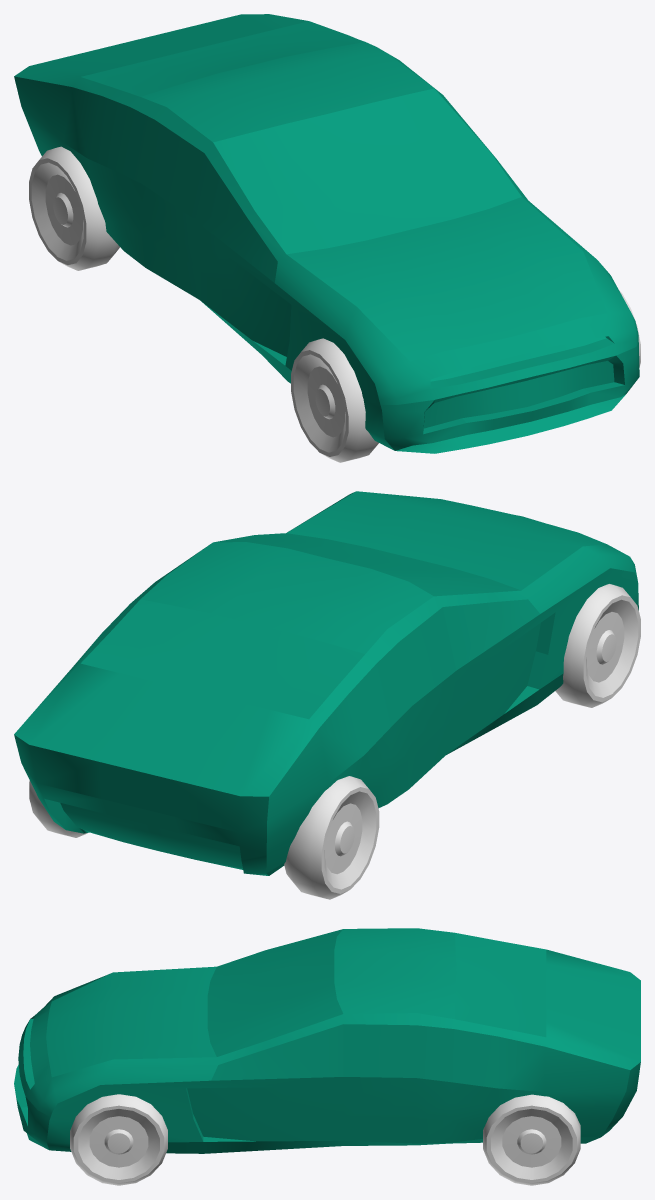
The model's file is dasAuto.FBX.
3 views of the same model, one above another, from view 1: azimuth 30°, elevation 25°; view 2: azimuth 150°, elevation 25°; view 3: azimuth 270°, elevation 25° (orthographic). The views are drawn at different scales.
Visible parts, largest first — view 1: Box001, Cylinder002, Cylinder001; view 2: Box001, Cylinder002, Cylinder001, Cylinder004; view 3: Box001, Cylinder004, Cylinder003.
Part boxes in pixels (<box>): Box001: <box>14,14,639,453</box>; Cylinder002: <box>29,146,119,270</box>; Cylinder001: <box>291,338,378,462</box>; Box001: <box>14,491,638,875</box>; Cylinder002: <box>284,776,379,899</box>; Cylinder001: <box>555,584,640,707</box>; Cylinder004: <box>29,780,88,837</box>; Box001: <box>14,928,640,1153</box>; Cylinder004: <box>483,1094,580,1185</box>; Cylinder003: <box>70,1094,167,1185</box>.
Bounding box in the file's own units: 11.34 × 7.9 × 26.72.
